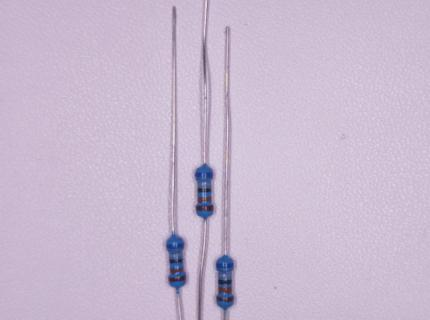Black band: (218, 280, 232, 285), (198, 188, 211, 193), (169, 259, 183, 263)
Blue band: (195, 172, 213, 178), (167, 243, 184, 249), (217, 262, 234, 268)
Brown band: (169, 275, 186, 282), (217, 295, 234, 302), (196, 205, 213, 211)
Grey band: (169, 253, 182, 258), (197, 182, 211, 186), (219, 273, 231, 277)
Orange band: (218, 287, 232, 293), (170, 267, 183, 273), (198, 197, 211, 202)
